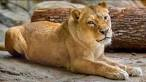lion: (1, 8, 143, 82)
